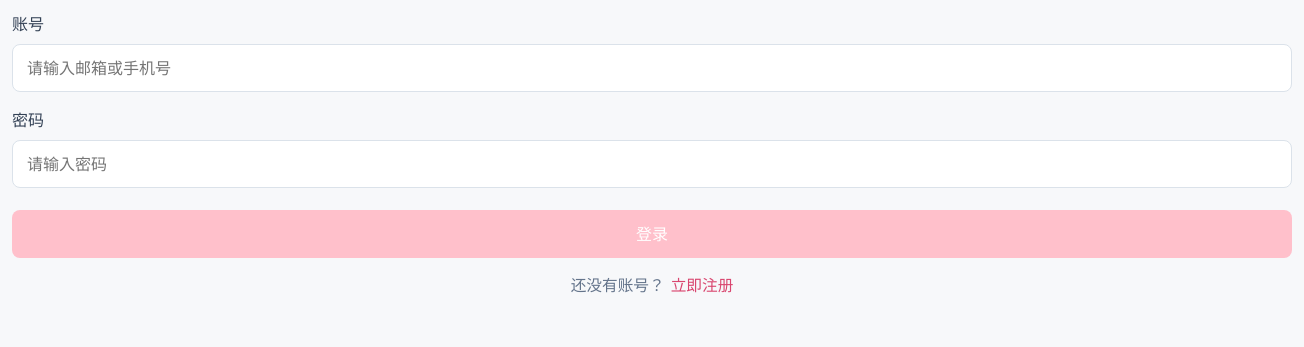
Test: 登录表单在缺少账号或密码时显示本地校验错误
This screenshot has width=1304, height=347.
Click the button "登录" at (652, 234), box [12, 210, 1292, 258]
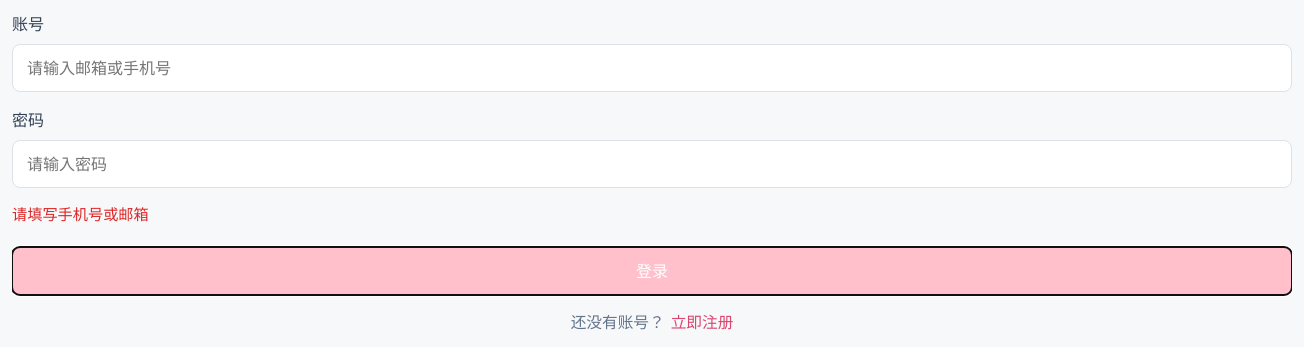
Expected: the text "请填写手机号或邮箱" is shown, [12, 205, 149, 224]
Type "user@example.com" into the field with placeholder "请输入邮箱或手机号" at (652, 68), box [12, 44, 1292, 92]
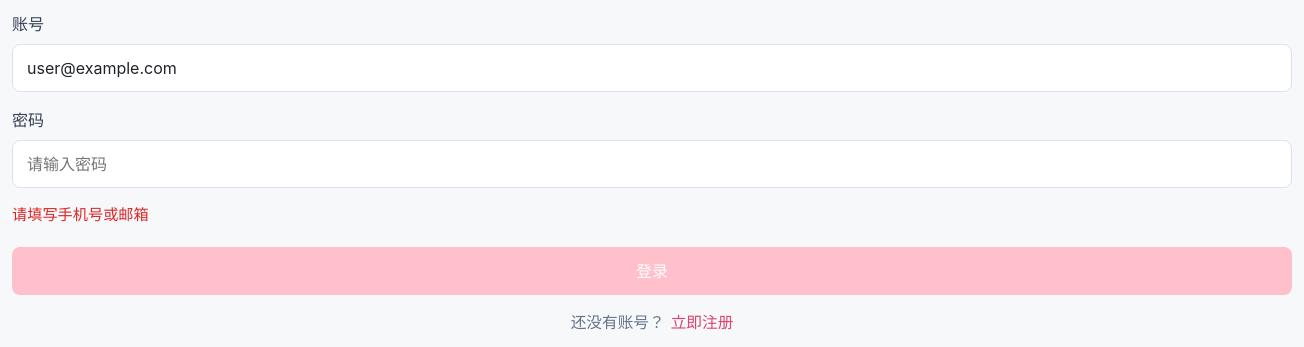
Click the button "登录" at (652, 271), box [12, 247, 1292, 295]
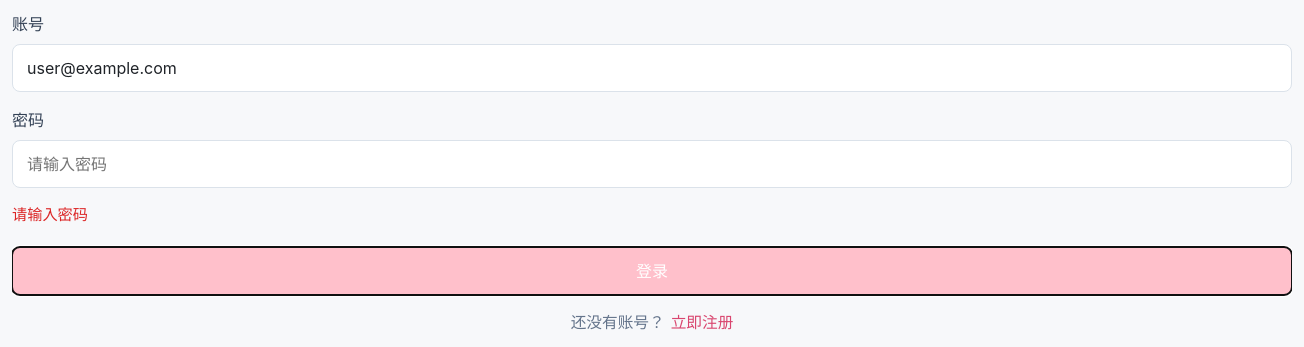
Expected: the text "请输入密码" is shown, [12, 205, 88, 224]
